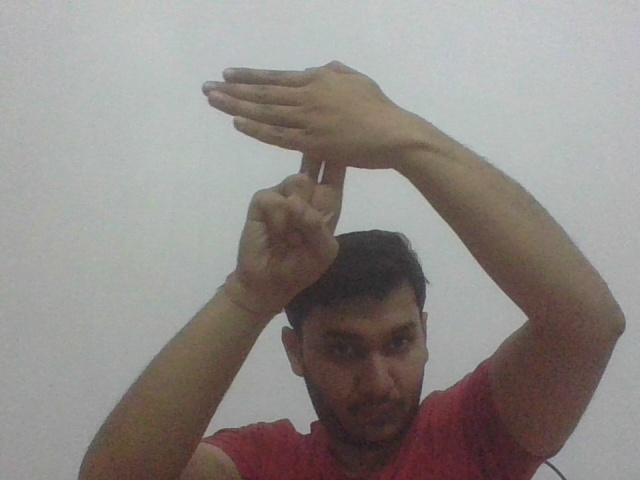N: (199, 59, 398, 193)
